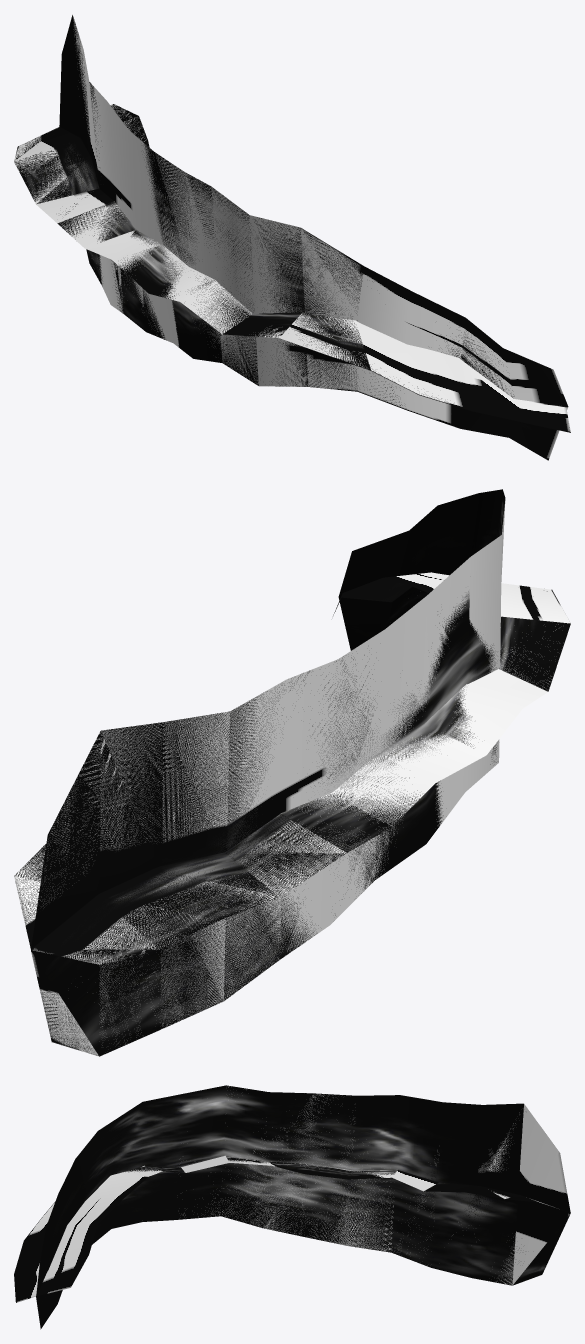
Rendered from effect_mws_atk03_atk_donghua.fbx.
3 views of the same model, one above another, from view 1: azimuth 30°, elevation 25°; view 2: azimuth 150°, elevation 25°; view 3: azimuth 270°, elevation 25° (orthographic). The views are drawn at different scales.
Parts seen in each view (by area): view 1: effect_renzhe_sl_mo (1), effect_renzhe_sl_mo; view 2: effect_renzhe_sl_mo, effect_renzhe_sl_mo (1); view 3: effect_renzhe_sl_mo, effect_renzhe_sl_mo (1).
Boxes of the visible parts, x1,y1,x2,y2 form: effect_renzhe_sl_mo (1): (14,16,570,460); effect_renzhe_sl_mo: (14,15,569,460); effect_renzhe_sl_mo: (14,489,570,1056); effect_renzhe_sl_mo (1): (14,501,570,1056); effect_renzhe_sl_mo: (36,1085,569,1329); effect_renzhe_sl_mo (1): (14,1086,570,1307).
Size of the model in its own units: 0.9348 by 0.8312 by 2.34.
